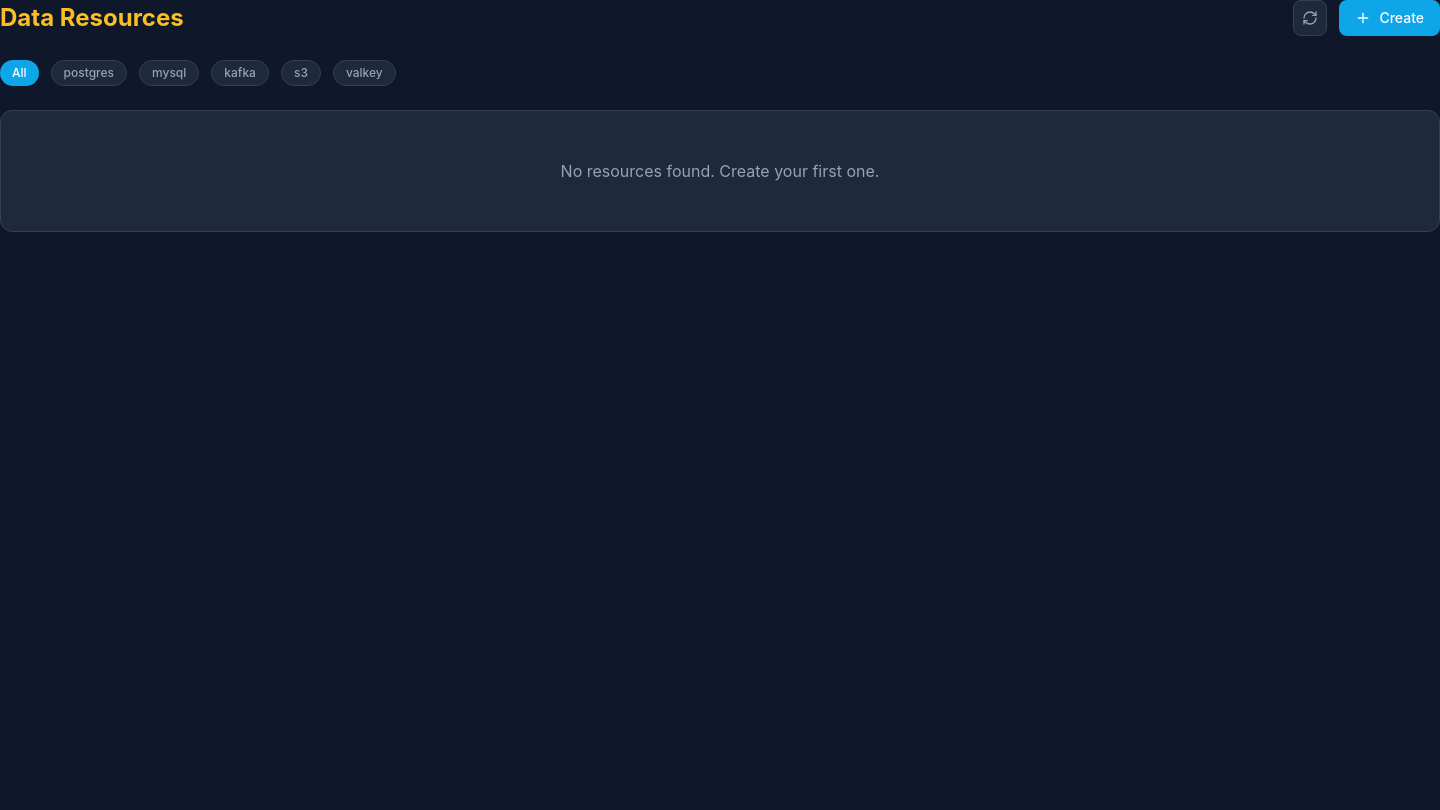
Resources › closes create modal on cancel
Click the button "Create".
click(1390, 18)  # box [1339,0,1439,36]
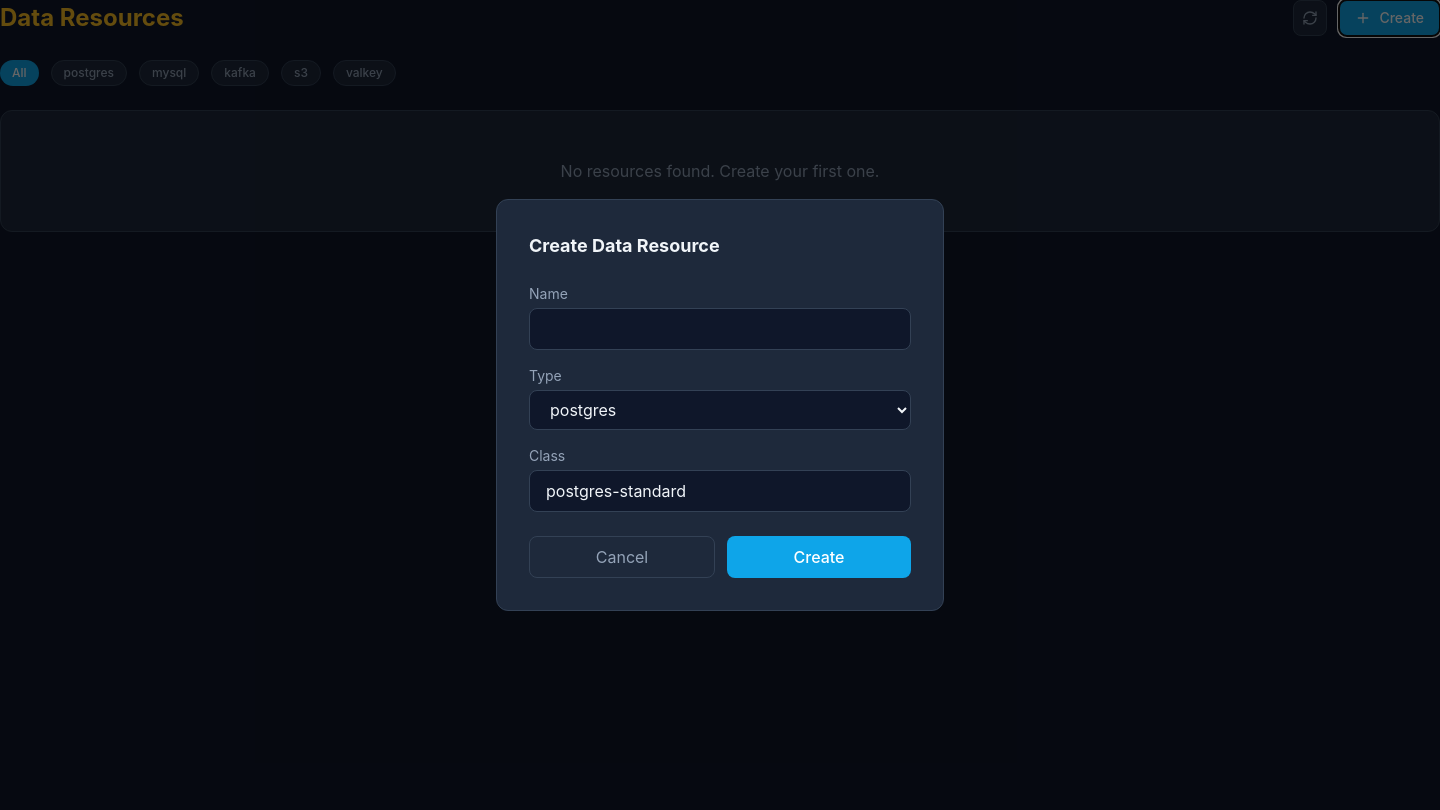
Click the button "Cancel".
click(622, 557)  # box [529,536,715,578]
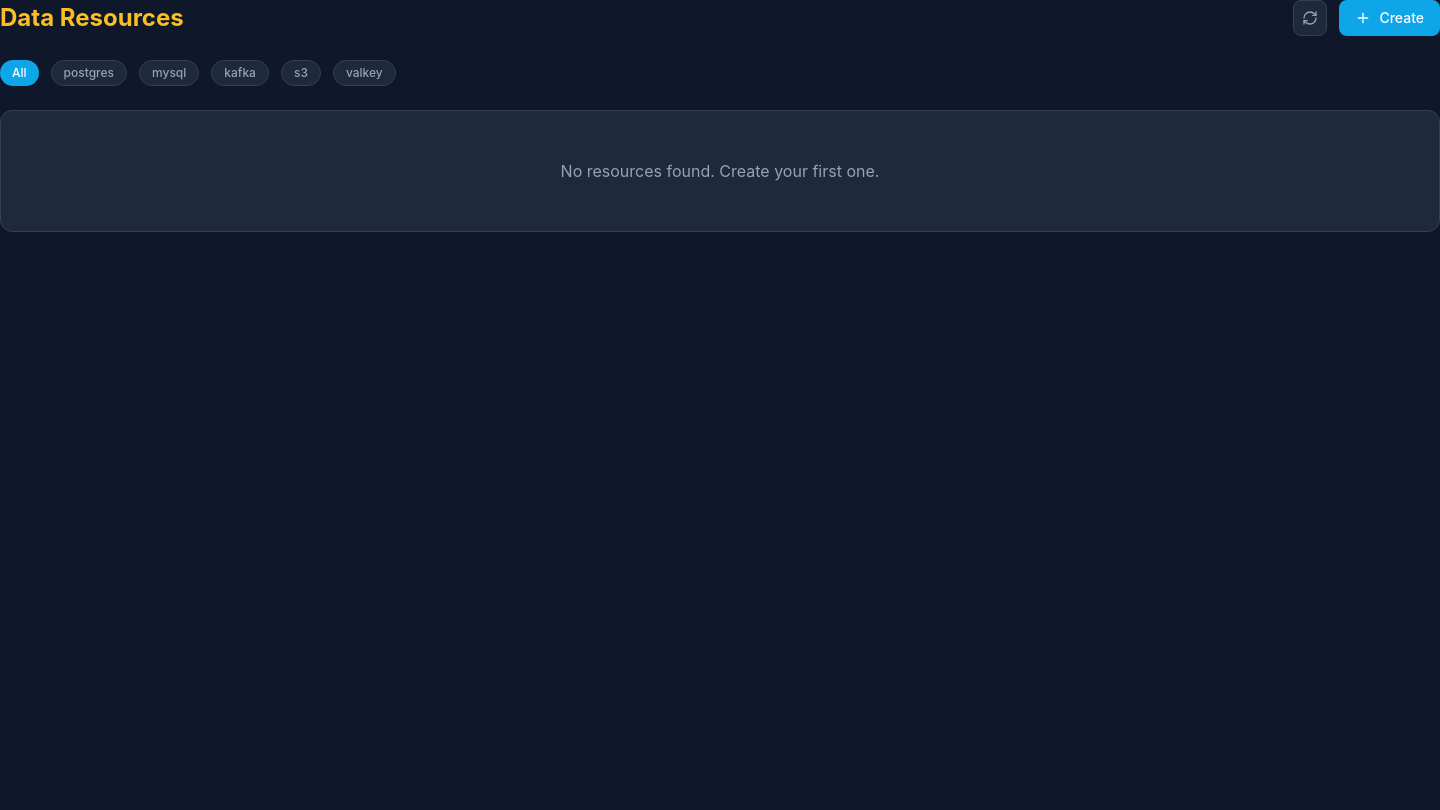
Expected: the heading "Create Data Resource" is gone
